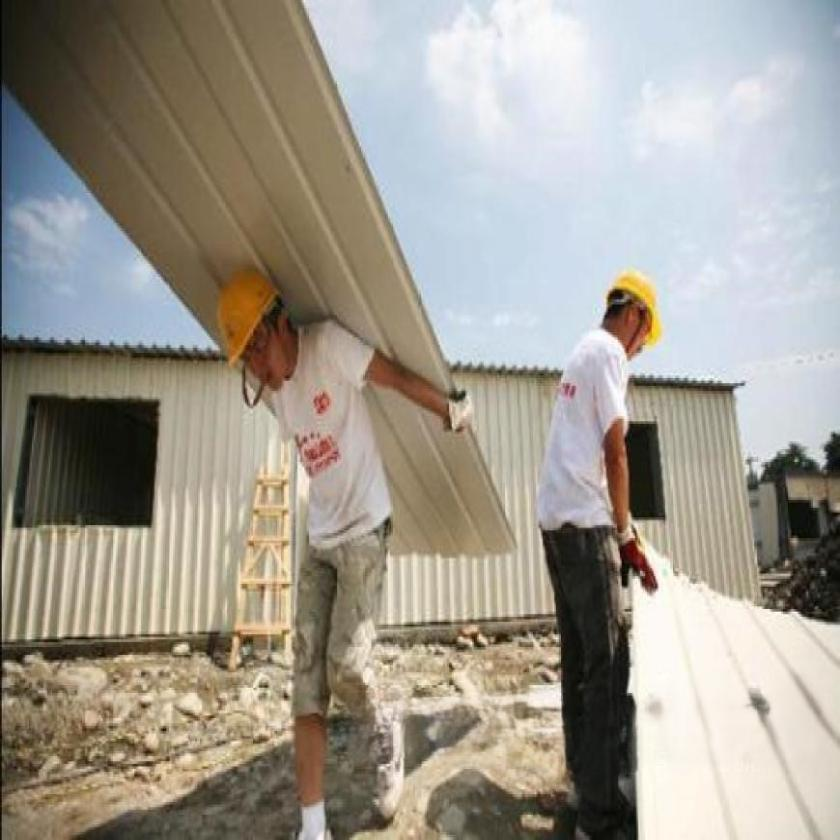Con_casco: (213, 270, 302, 402), (598, 256, 659, 356)
